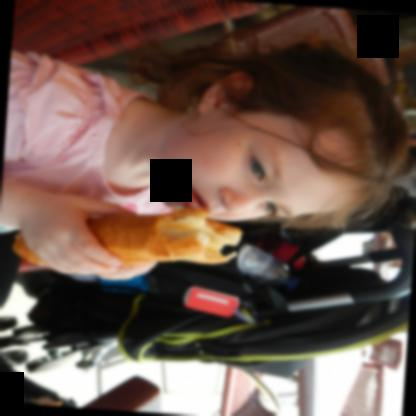backpack: (117, 292, 410, 368)
